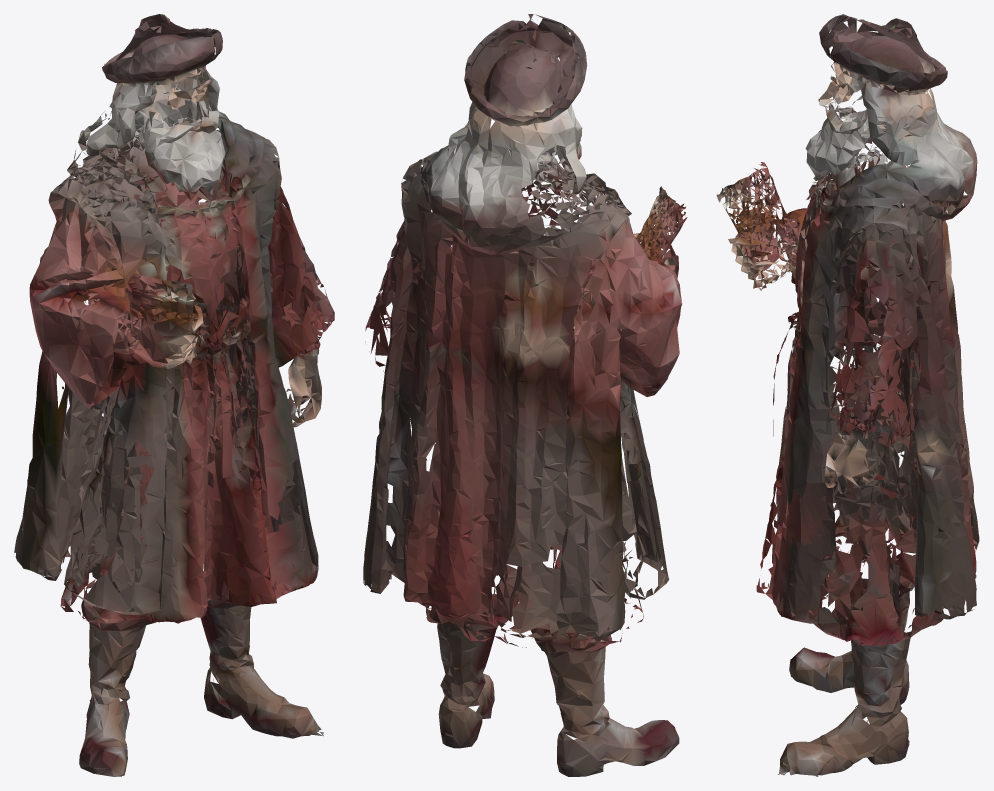
File: leonardo.glb
3 renders of one model, left to right at view 1: azimuth 30°, elevation 25°; view 2: azimuth 150°, elevation 25°; view 3: azimuth 270°, elevation 25°, orthographic.
Size of the model in its own units: 0.7749 by 1.73 by 0.5846.
